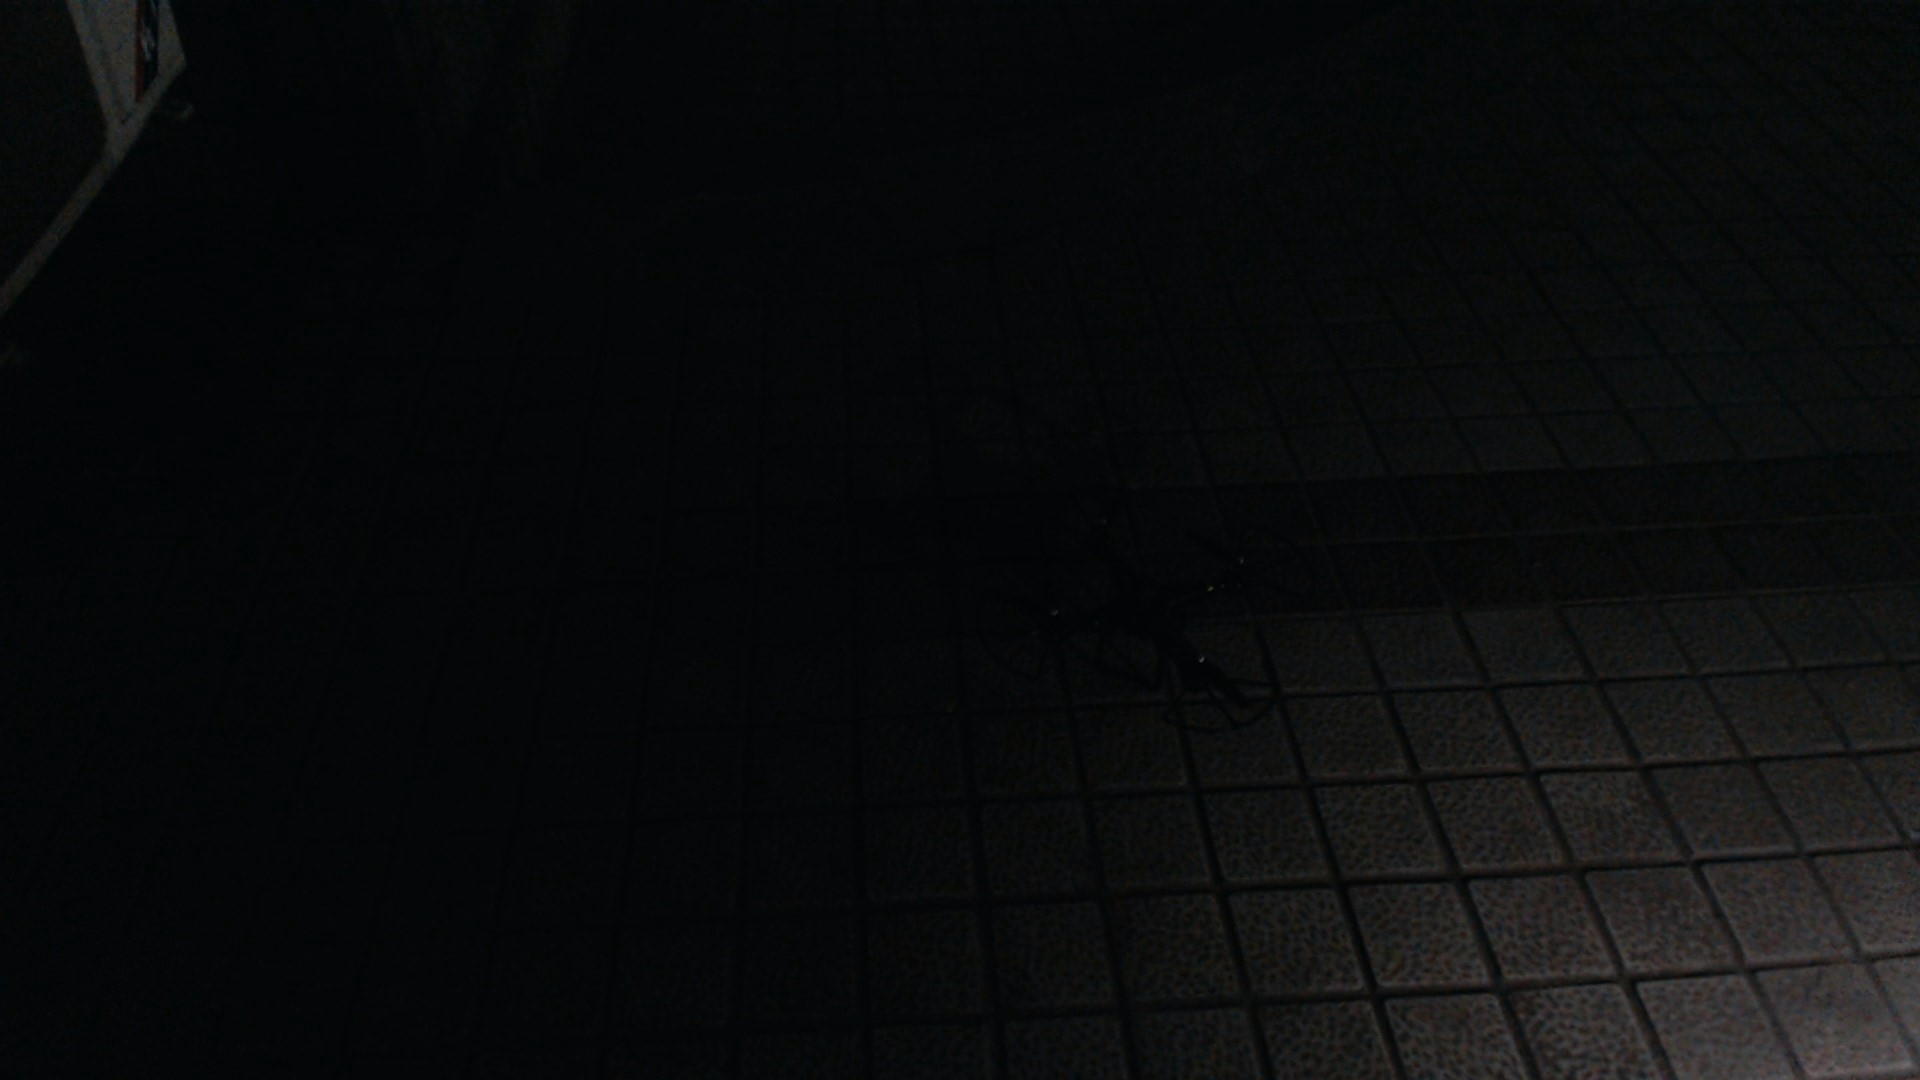drone: (997, 483, 1300, 735)
